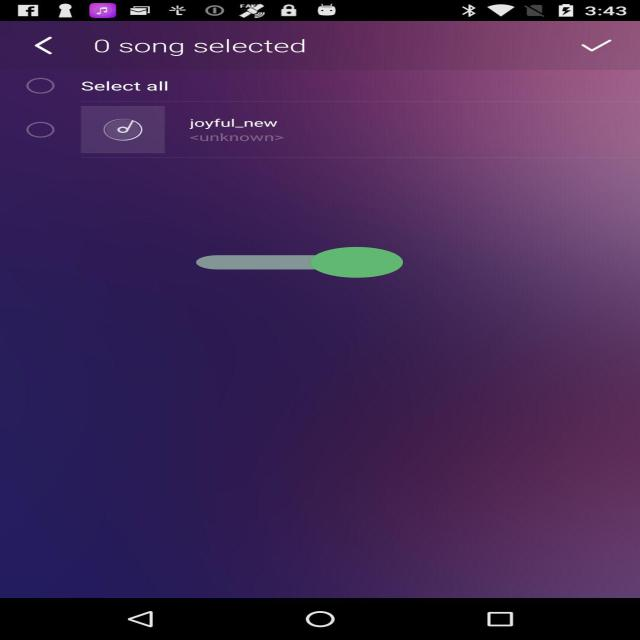social proof: (196, 228, 403, 297)
